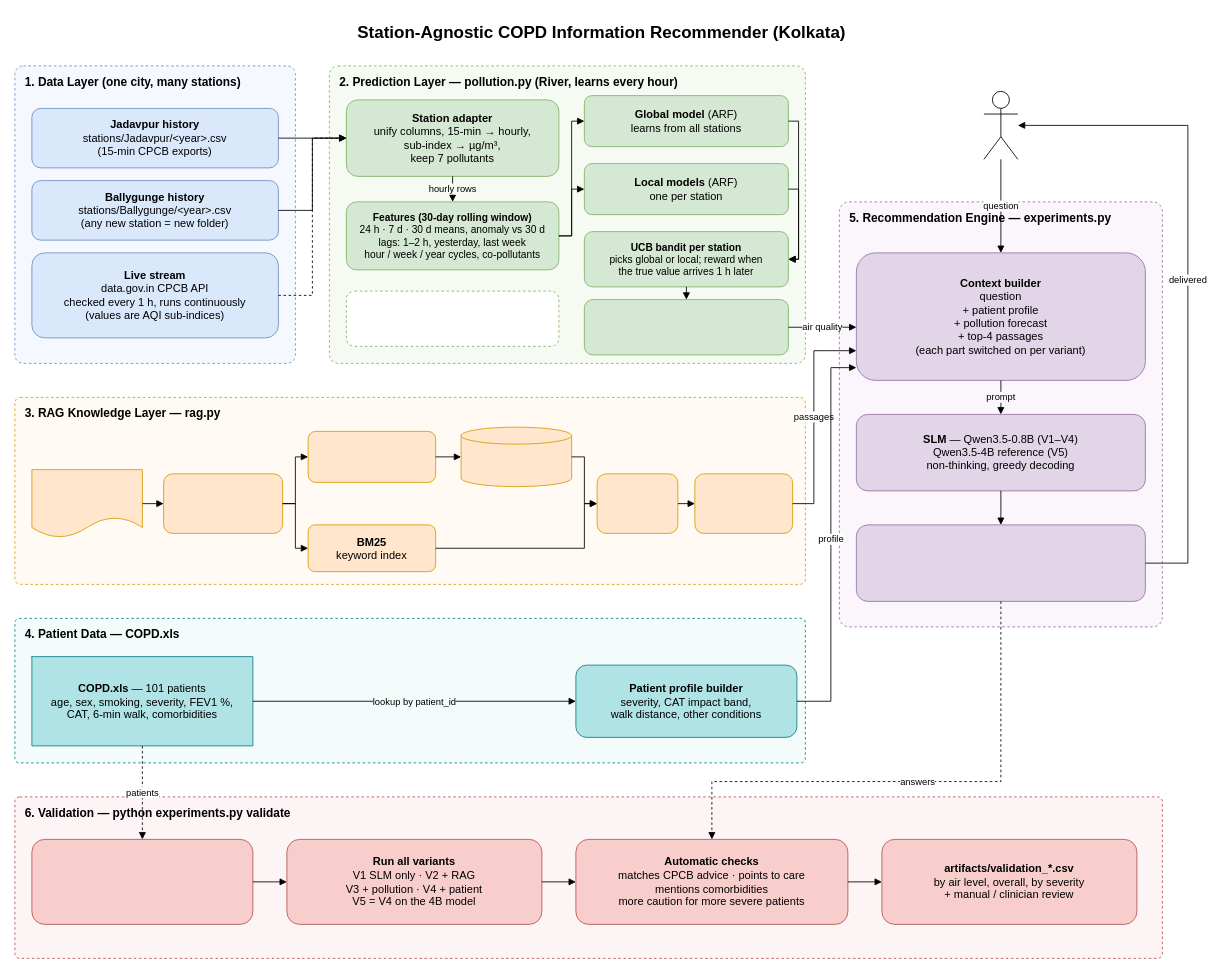
Some shapes in this 1221 by 973 pixel diagram are drawn without their labels. The centre of each missing label's shape, as x and y in pixels:
bge reranker keep top 4: (743,503)
Chroma vector store: (516,456)
COPD Patient: (1000,125)
Dense embeddings bge-small: (371,456)
Load and chunk pypdf, 800 / 120: (223,503)
Next-hour PM2.5 forecast + CPCB category and health note: (686,327)
Persistence baseline y(t+1) = y(t), logged for MAE comparison: (452,318)
Personalised information recommendation: (1000,562)
RAG Data/ PDFs (GOLD 2026, WHO, CPCB, ICMR): (86,503)
RRF fusion: (637,503)
Test set 3 patients per severity × 2 questions × 5 air levels (Good → Severe): (142,881)
